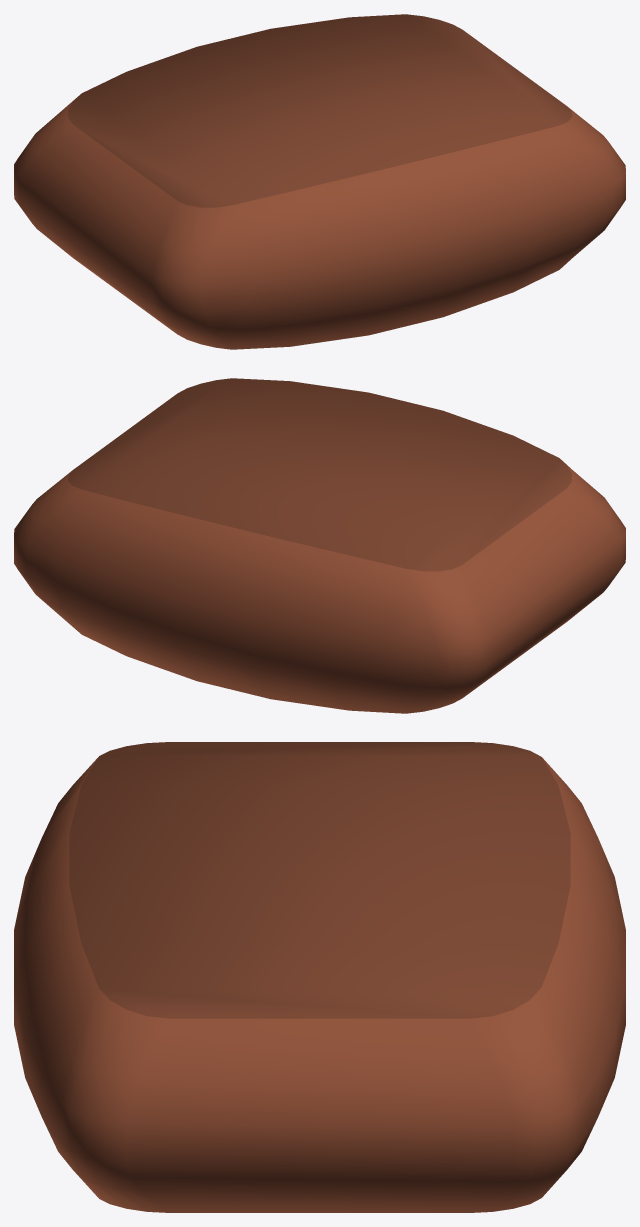
Rendered from Sand Bag.fbx.
The picture shows the model from 3 angles, top to bottom: view 1: azimuth 30°, elevation 25°; view 2: azimuth 150°, elevation 25°; view 3: azimuth 270°, elevation 25°; orthographic projection. The views are drawn at different scales.
Parts seen in each view (by area): view 1: Sand Bag; view 2: Sand Bag; view 3: Sand Bag.
Boxes of the visible parts, left/top/right/bottom form: Sand Bag: left=14, top=14, right=625, bottom=349; Sand Bag: left=14, top=378, right=625, bottom=713; Sand Bag: left=14, top=742, right=625, bottom=1212.
Size of the model in its own units: 1.3 by 0.4311 by 1.01.
